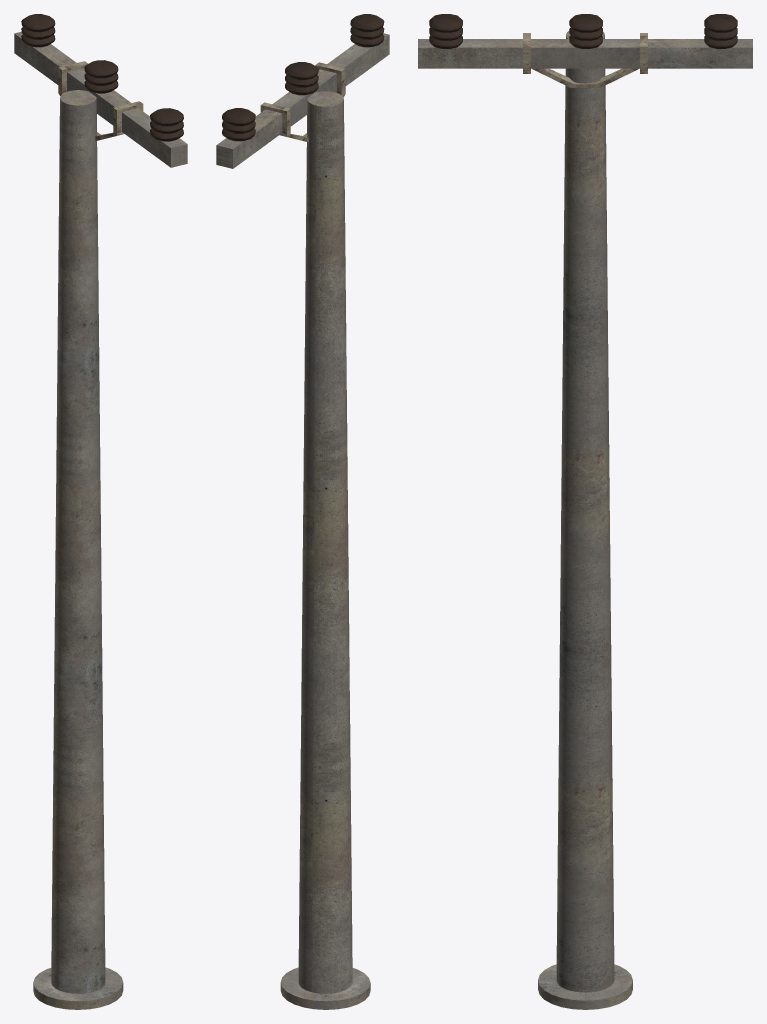
Rendered from E_Pole01_02.fbx.
3 views of the same model, side by side, from view 1: azimuth 30°, elevation 25°; view 2: azimuth 150°, elevation 25°; view 3: azimuth 270°, elevation 25° (orthographic). The views are drawn at different scales.
Parts seen in each view (by area): view 1: Cylinder (36); view 2: Cylinder (36); view 3: Cylinder (36).
Part boxes in pixels (x1,y1,x2,y2): Cylinder (36): [14, 14, 187, 1009]; Cylinder (36): [216, 14, 389, 1009]; Cylinder (36): [418, 14, 752, 1009].
Bounding box in the file's own units: 79.86 × 897 × 277.
